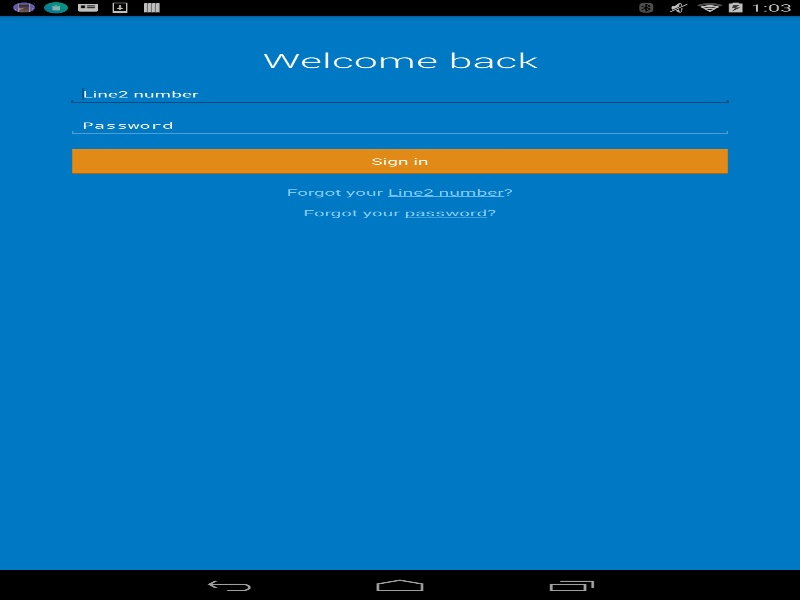Button: (66, 146, 733, 176)
Input: (66, 83, 733, 105), (66, 115, 733, 136)
